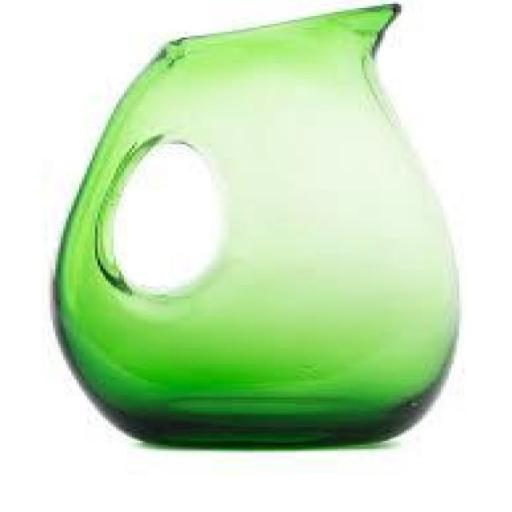glass: (24, 0, 485, 471)
